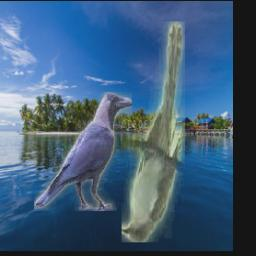Crow: (34, 92, 132, 211)
Cuckoo: (122, 21, 186, 242)
